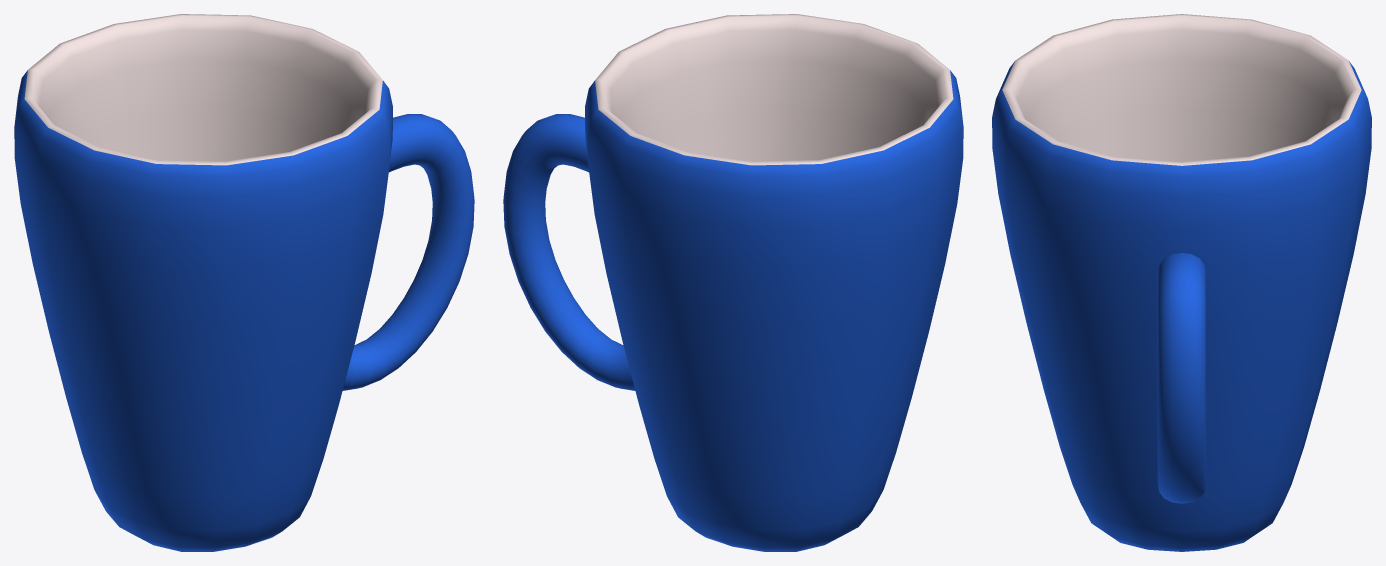
The model's file is Cup_01.fbx.
The picture shows the model from 3 angles, left to right: view 1: azimuth 30°, elevation 25°; view 2: azimuth 150°, elevation 25°; view 3: azimuth 270°, elevation 25°; orthographic projection.
Visible parts, largest first — view 1: Cup01; view 2: Cup01; view 3: Cup01.
Part boxes in pixels (x1,y1,x2,y2): Cup01: [14, 14, 474, 551]; Cup01: [503, 14, 963, 551]; Cup01: [992, 14, 1371, 551].
Size of the model in its own units: 411 by 392 by 313.
